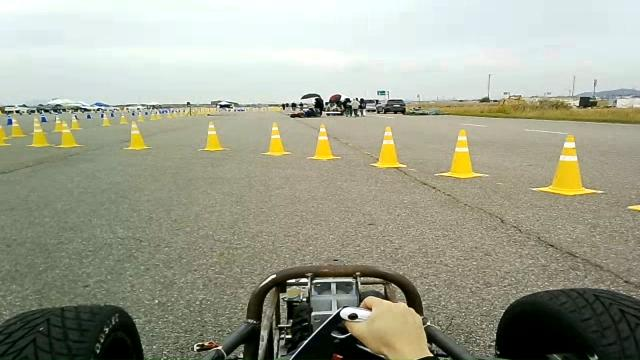yellow cone: (531, 134, 603, 196), (434, 128, 488, 179), (369, 125, 407, 168), (306, 123, 341, 160), (260, 121, 292, 156), (198, 120, 229, 151), (55, 115, 83, 148), (122, 120, 152, 150), (25, 118, 54, 148), (560, 134, 578, 156), (454, 128, 469, 150), (626, 204, 640, 211)
